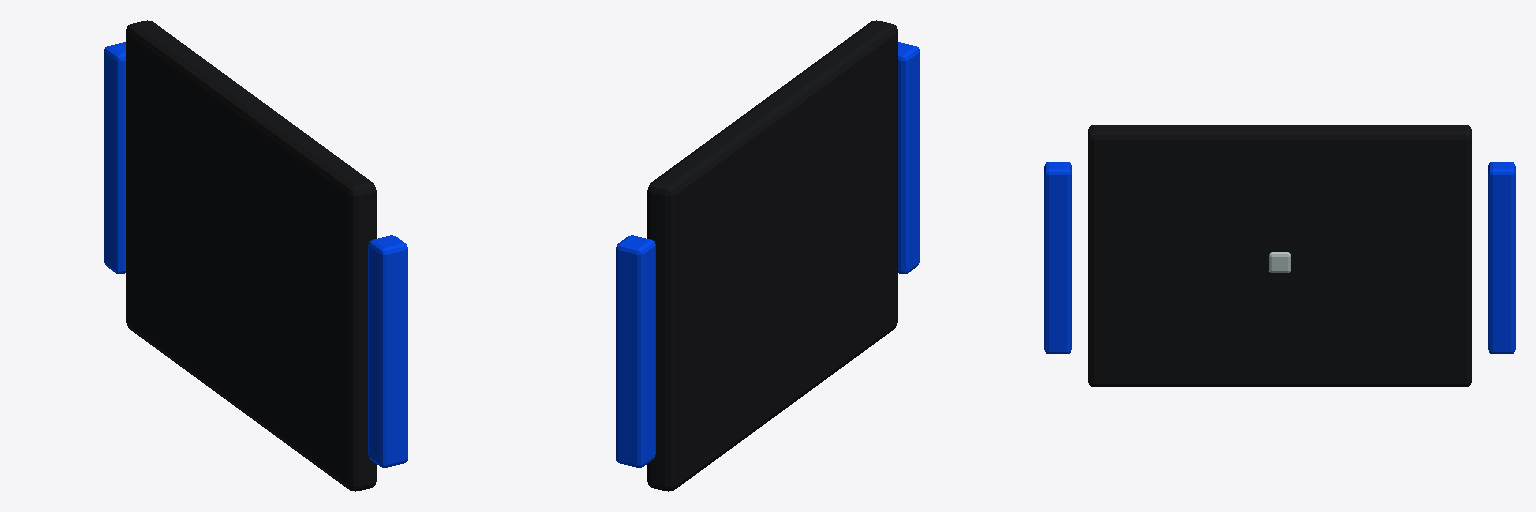
URDF robot description (impact_outpost_plate):
<?xml version='1.0' encoding='utf-8'?>
<robot name="impact_outpost_plate"><link name="armor_plate"><visual name="WeakSpot"><geometry><mesh filename="part_019.obj" /></geometry><material name="material_19"><color rgba="0.7215686274509804 0.7803921568627451 0.7686274509803922 1.0" /></material></visual><collision name="collision_19"><geometry><mesh filename="part_019.obj" /></geometry></collision><visual name="OutpostArmor_0_TeamGlow"><geometry><mesh filename="part_020.obj" /></geometry><material name="material_20"><color rgba="0.04 0.32 0.95 1" /></material></visual><collision name="collision_20"><geometry><mesh filename="part_020.obj" /></geometry></collision><visual name="ArmorPanel"><geometry><mesh filename="part_021.obj" /></geometry><material name="material_21"><color rgba="0.12156862745098039 0.12549019607843137 0.13333333333333333 1.0" /></material></visual><collision name="collision_21"><geometry><mesh filename="part_021.obj" /></geometry></collision></link></robot>

--- Facts derived from the render (not from the file) ---
The picture shows the robot from 3 angles, left to right: view 1: azimuth 30°, elevation 25°; view 2: azimuth 150°, elevation 25°; view 3: azimuth 270°, elevation 25°; orthographic projection.
Model impact_outpost_plate with 1 links and 0 joints (none), rooted at armor_plate, posed every joint at zero.
Visible links, largest first — view 1: armor_plate; view 2: armor_plate; view 3: armor_plate.
Link boxes in pixels (x1,y1,x2,y2): armor_plate: (104,20,407,491); armor_plate: (616,20,919,491); armor_plate: (1044,125,1515,386).
Bounding box of the posed robot: 0.0145 × 0.208 × 0.125 m (x, y, z).
3 mesh visuals loaded from 3 distinct referenced files (3 OBJ).
